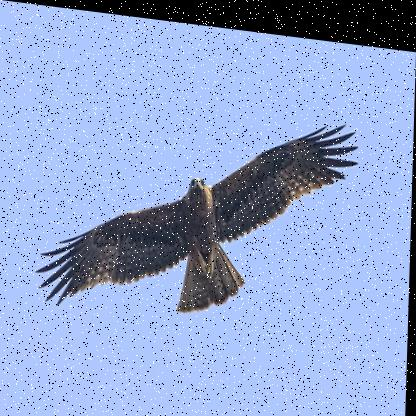Burung: (39, 82, 361, 340)
